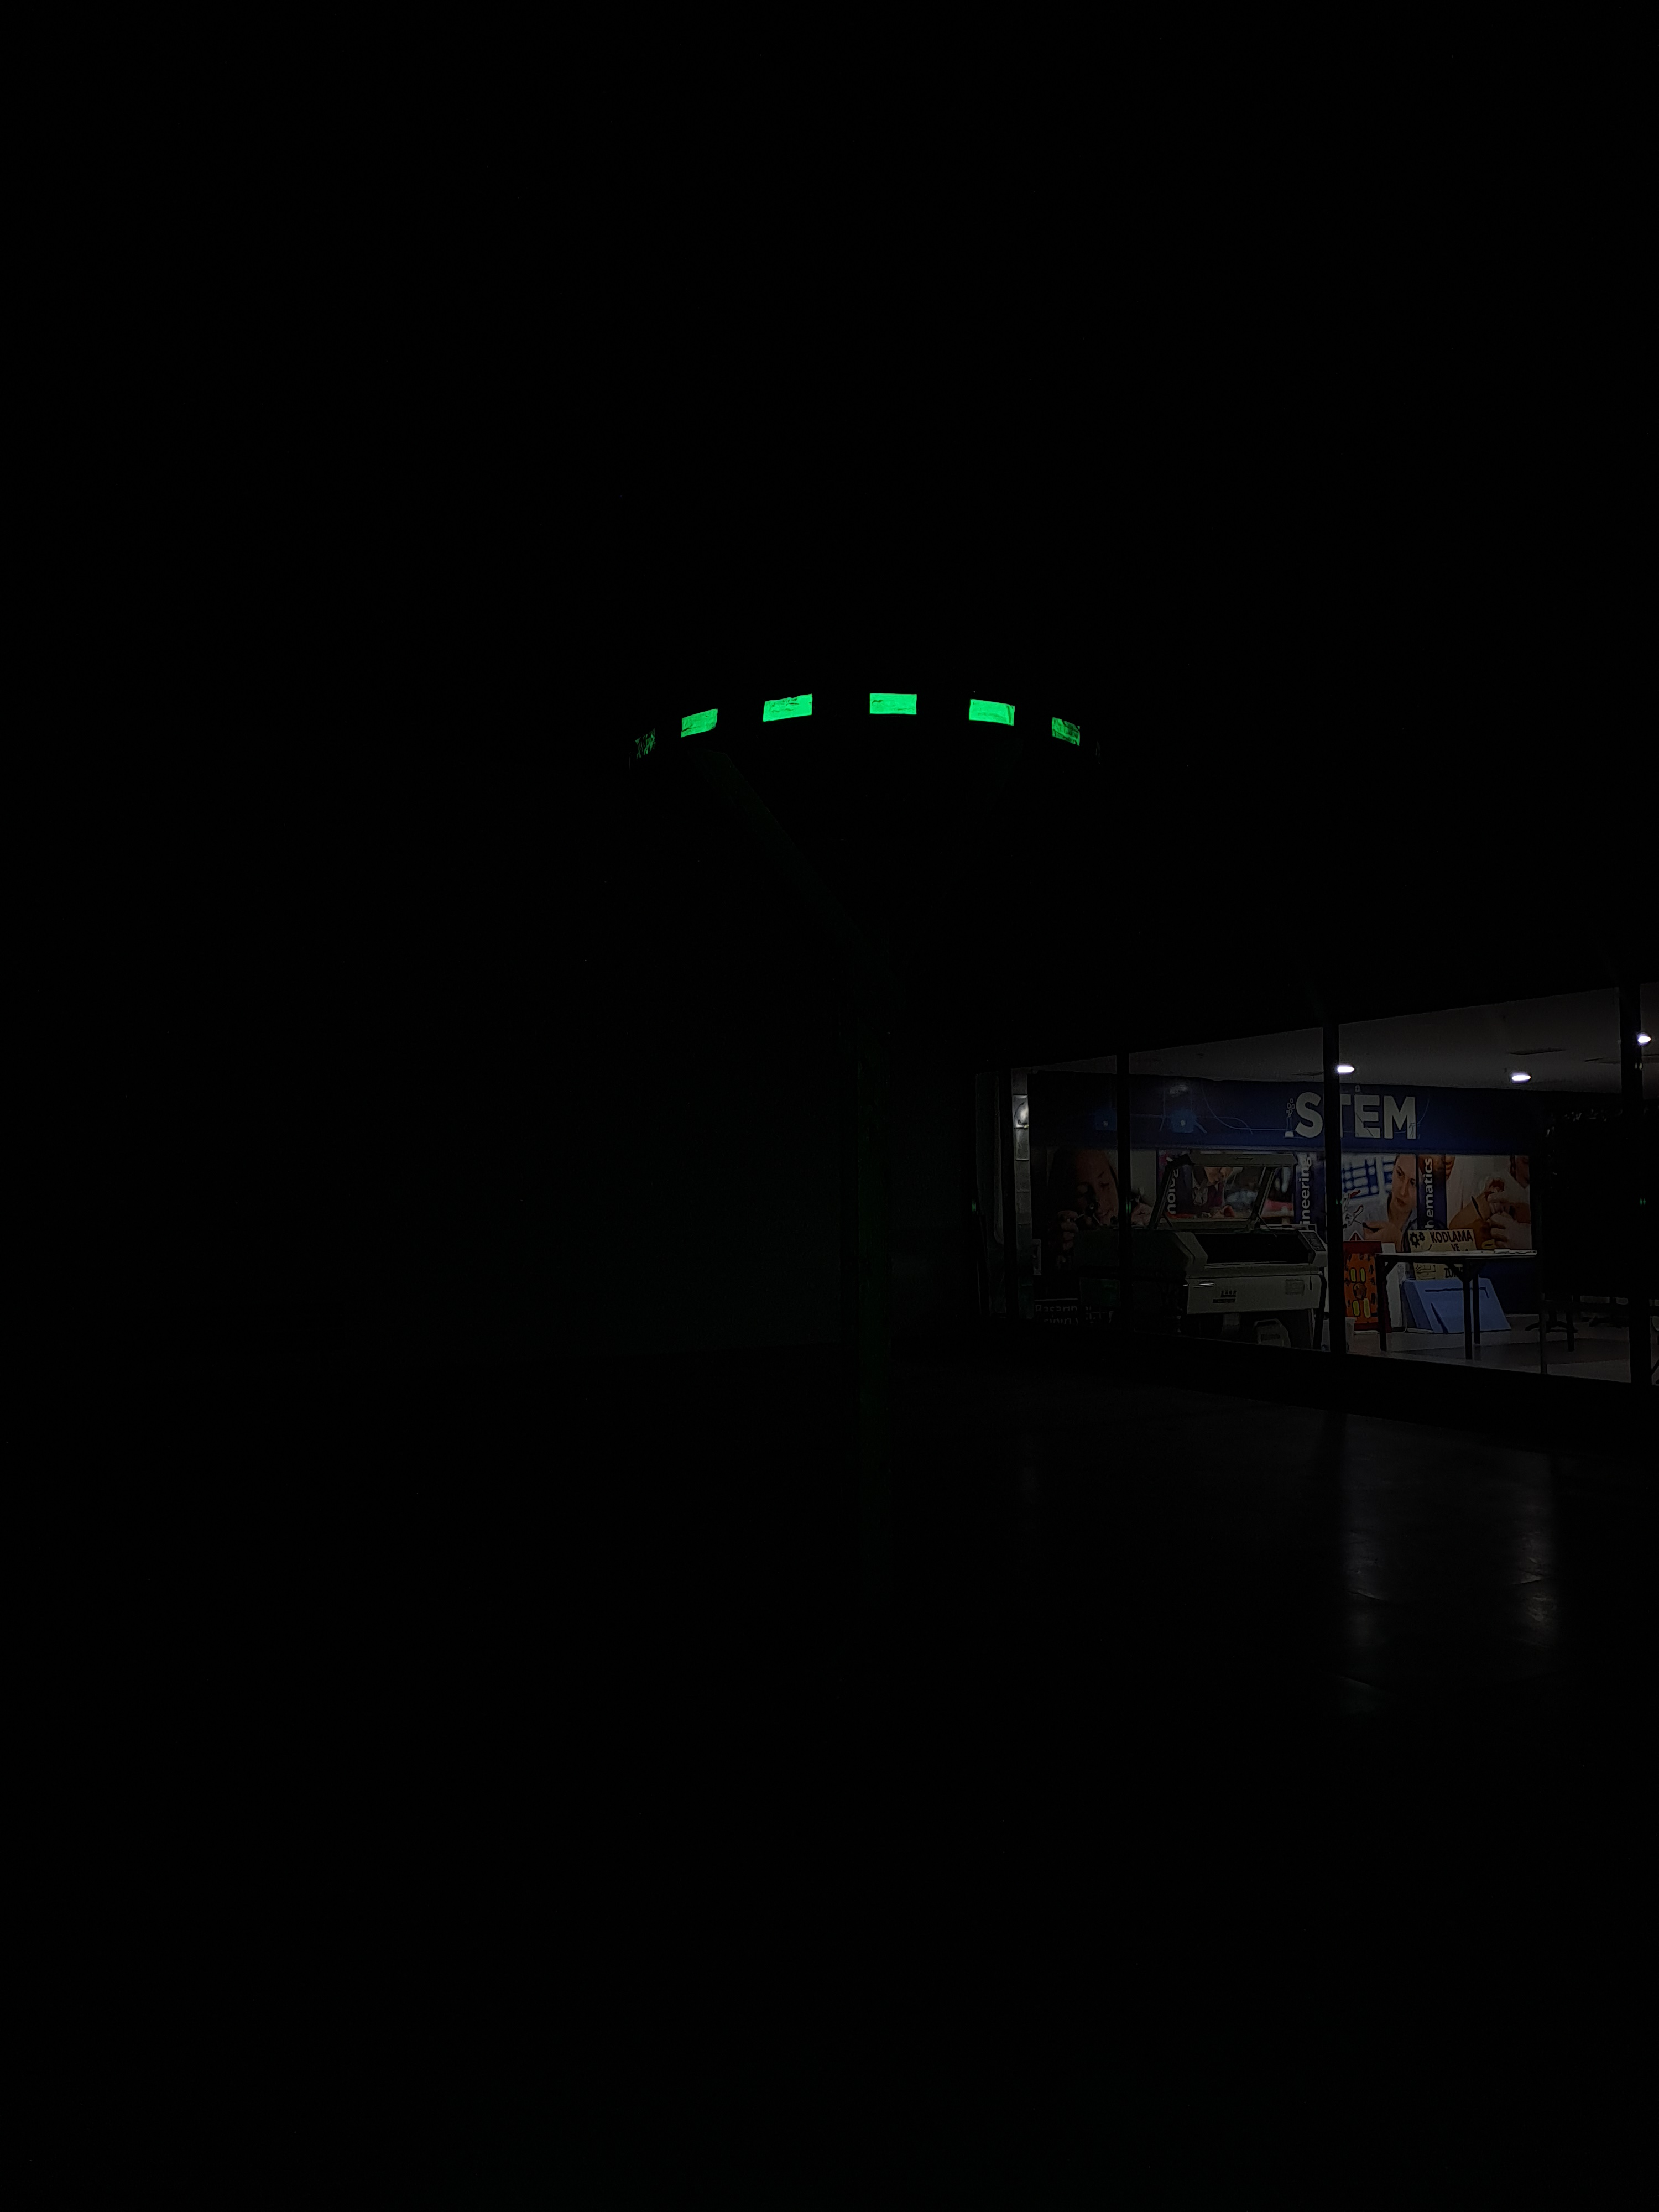hoop: (676, 690, 1087, 758)
